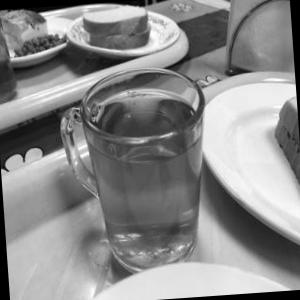tea: (52, 56, 236, 278)
